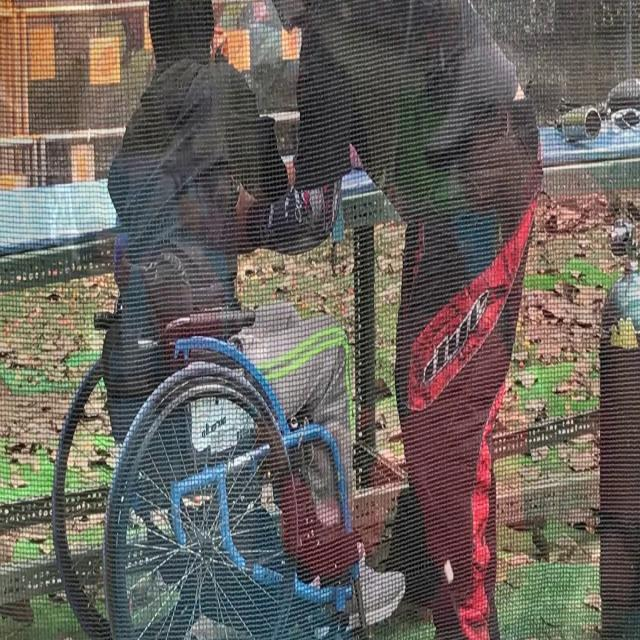wheelchairs: (34, 262, 418, 640)
